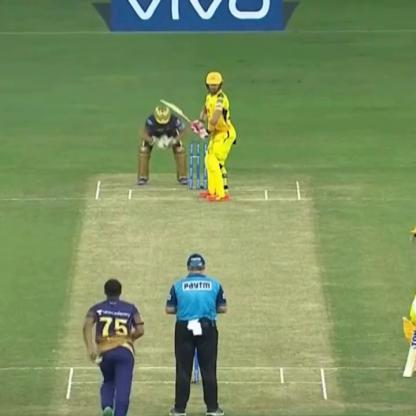bat: (157, 92, 220, 147)
pitch: (56, 170, 340, 410)
